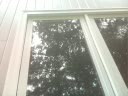window: (30, 17, 85, 96), (108, 17, 128, 61)
